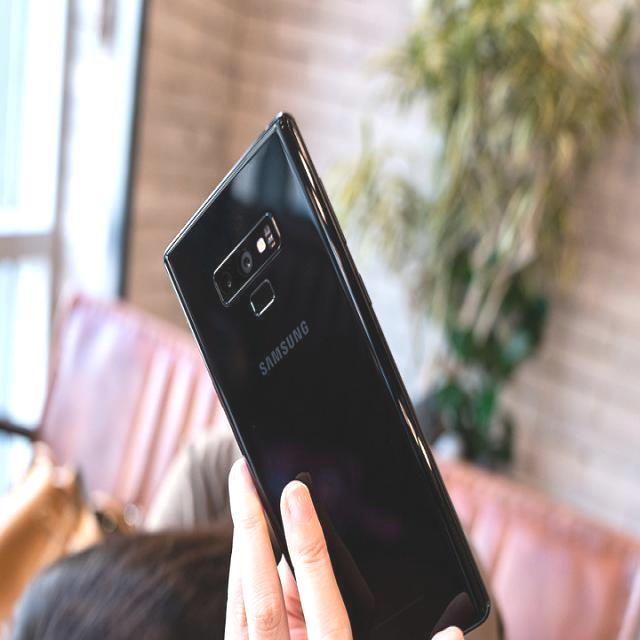lens: (206, 210, 285, 313)
phone: (163, 113, 492, 639)
